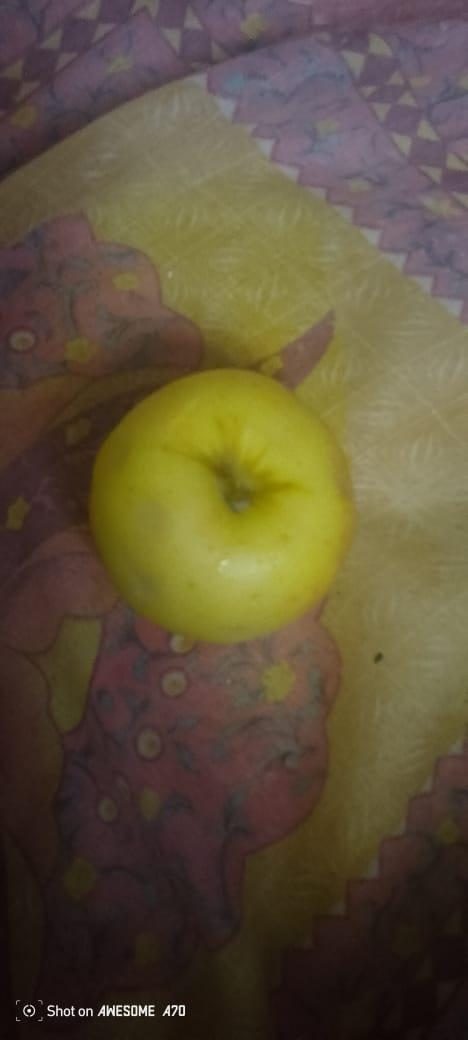non-mango: (89, 368, 359, 642)
